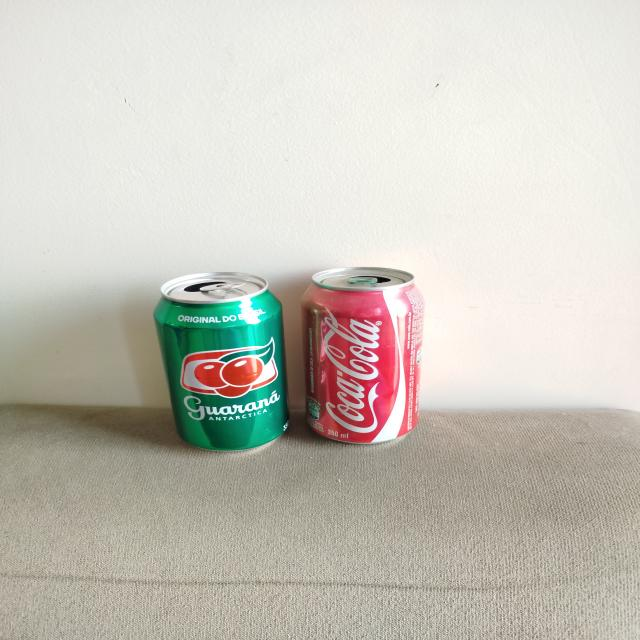Coca Cola: (302, 267, 423, 444)
Guarana: (153, 272, 290, 451)
